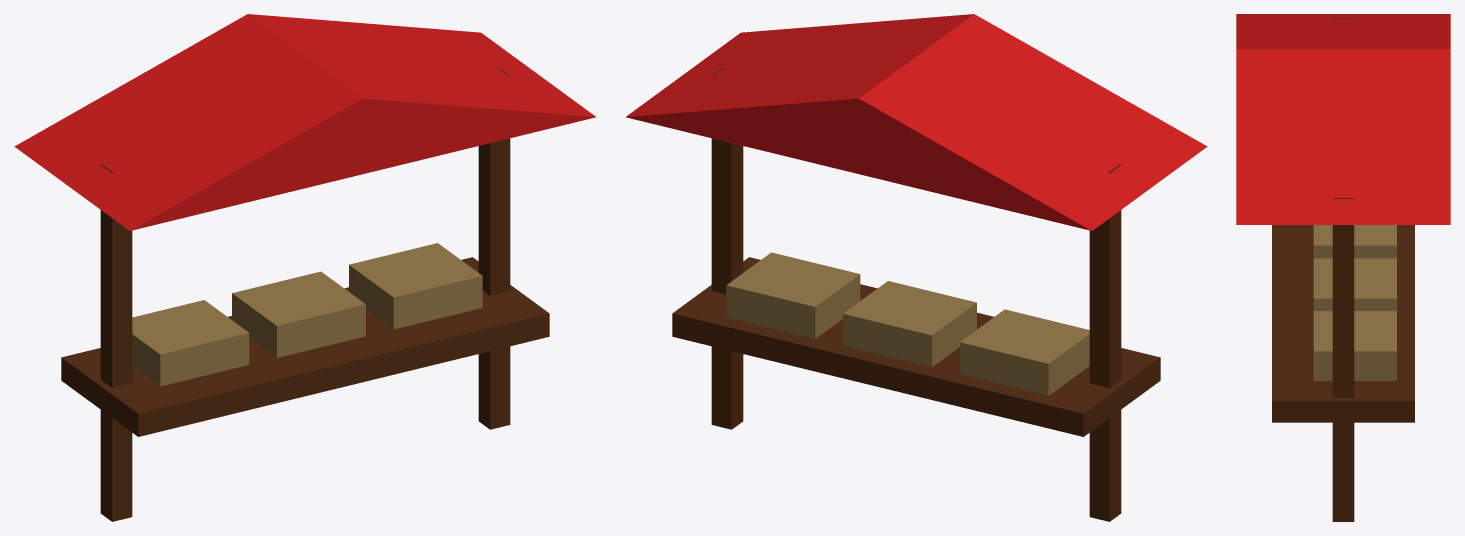
The model's file is merchant_stall.obj.
3 views of the same model, side by side, from view 1: azimuth 30°, elevation 25°; view 2: azimuth 150°, elevation 25°; view 3: azimuth 270°, elevation 25° (orthographic). The views are drawn at different scales.
Parts seen in each view (by area): view 1: models/environment/merchant_stall.obj; view 2: models/environment/merchant_stall.obj; view 3: models/environment/merchant_stall.obj.
Boxes of the visible parts, left/top/right/bottom form: models/environment/merchant_stall.obj: left=14, top=14, right=596, bottom=521; models/environment/merchant_stall.obj: left=625, top=14, right=1207, bottom=521; models/environment/merchant_stall.obj: left=1236, top=14, right=1450, bottom=521.
Bounding box in the file's own units: 4.2 × 3.55 × 1.8.
